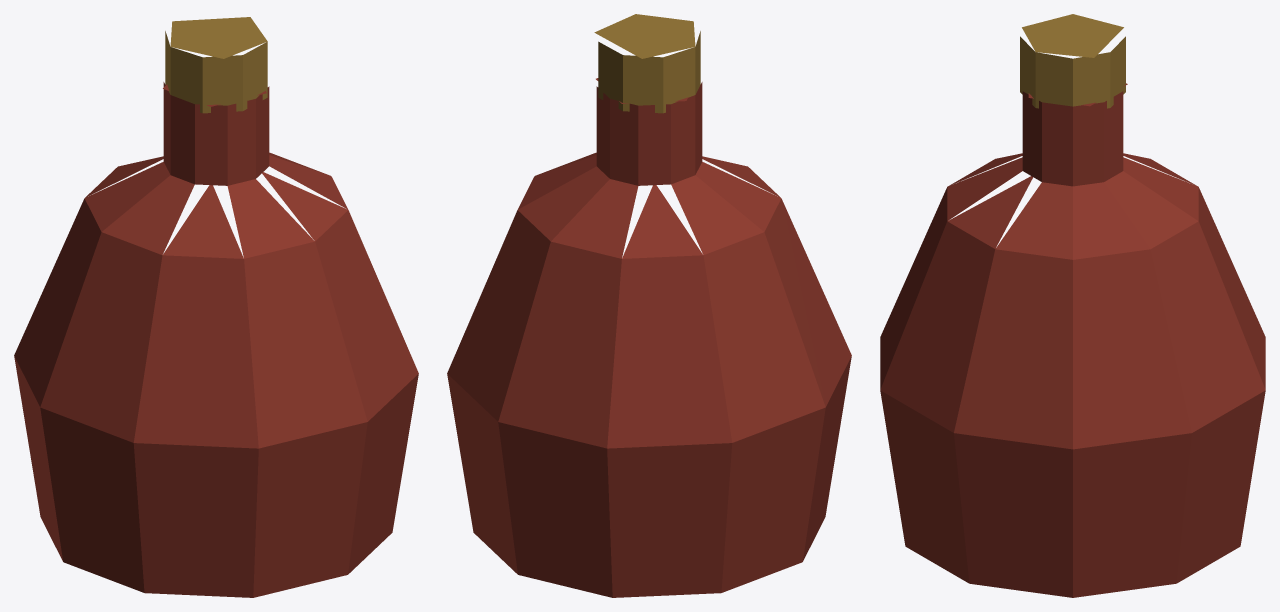
File: mummergy.lod.glb
3 views of the same model, side by side, from view 1: azimuth 30°, elevation 25°; view 2: azimuth 150°, elevation 25°; view 3: azimuth 270°, elevation 25° (orthographic).
Visible parts, largest first — view 1: m; view 2: m; view 3: m.
Boxes of the visible parts, <box> form: m: <box>14,17,418,597</box>; m: <box>447,14,851,597</box>; m: <box>880,14,1265,597</box>.
Size of the model in its own units: 0.092 by 0.122 by 0.0875.
